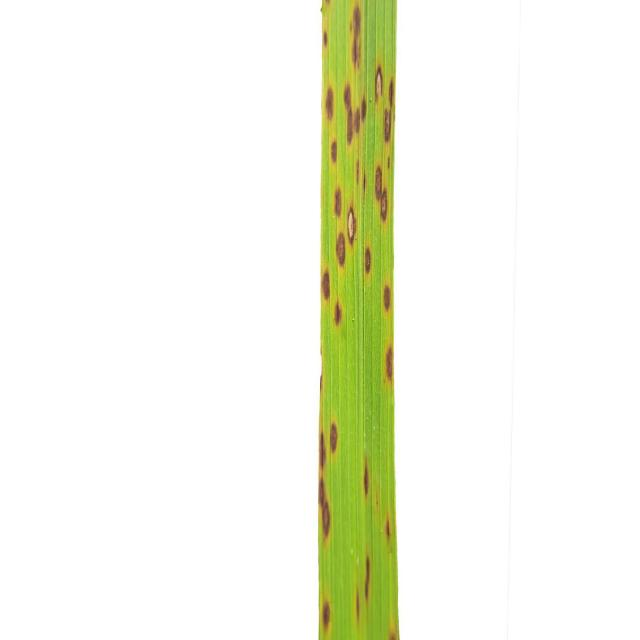Brown_Spot: (351, 5, 361, 68), (344, 84, 354, 144), (319, 489, 330, 536), (355, 96, 366, 132), (385, 346, 394, 380), (336, 232, 345, 264), (325, 88, 334, 120), (319, 431, 326, 469), (348, 210, 356, 242), (384, 110, 392, 142), (321, 271, 330, 299), (365, 556, 371, 597), (375, 166, 382, 200), (322, 601, 330, 630), (330, 424, 338, 452), (375, 66, 382, 98), (381, 190, 388, 221), (364, 461, 370, 494), (334, 301, 342, 325), (334, 189, 341, 216), (331, 141, 338, 162), (365, 248, 371, 272), (384, 286, 390, 309), (355, 592, 360, 619), (385, 514, 390, 538), (389, 80, 392, 104), (324, 31, 328, 47)
